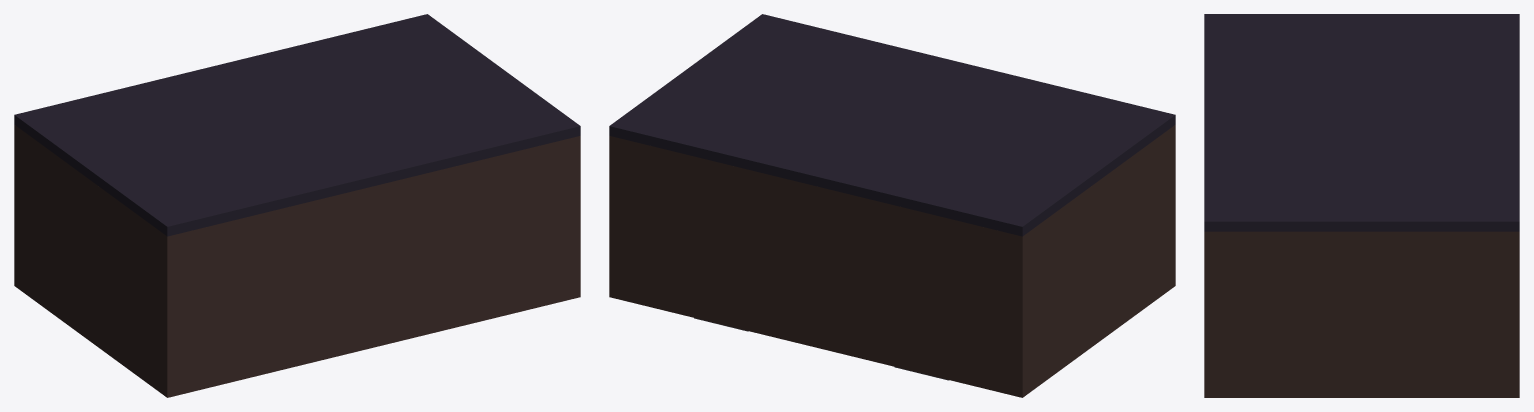
Rendered from music-web.glb.
3 renders of one model, left to right at view 1: azimuth 30°, elevation 25°; view 2: azimuth 150°, elevation 25°; view 3: azimuth 270°, elevation 25°, orthographic. The views are drawn at different scales.
Visible parts, largest first — view 1: WAL_Shell, CEIL_Slab; view 2: WAL_Shell, CEIL_Slab; view 3: CEIL_Slab, WAL_Shell.
Part boxes in pixels (<box>): WAL_Shell: <box>14,125,580,397</box>; CEIL_Slab: <box>14,14,580,236</box>; WAL_Shell: <box>609,125,1175,397</box>; CEIL_Slab: <box>609,14,1175,236</box>; CEIL_Slab: <box>1204,14,1519,231</box>; WAL_Shell: <box>1204,231,1519,397</box>.
Bounding box in the file's own units: 13.4 × 5.48 × 8.6.
